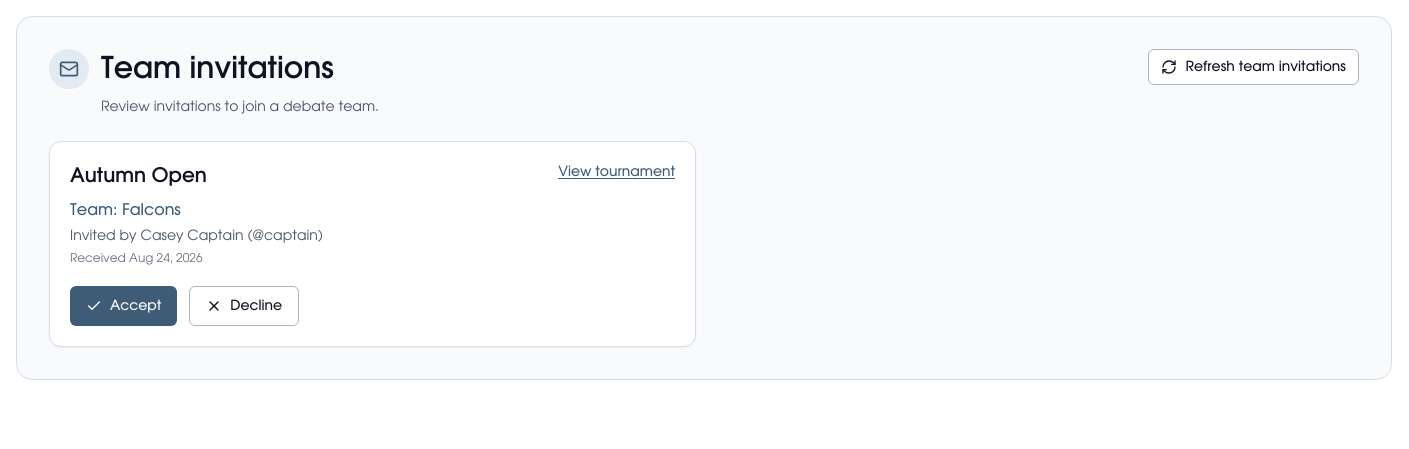
Test: ParticipantInvitationInbox › keeps decline available when accepting fails with an ordinary 400 response
Step 1. Click the button with aria-label "Accept invitation to Falcons" → (124, 306), box [70,286,177,326]
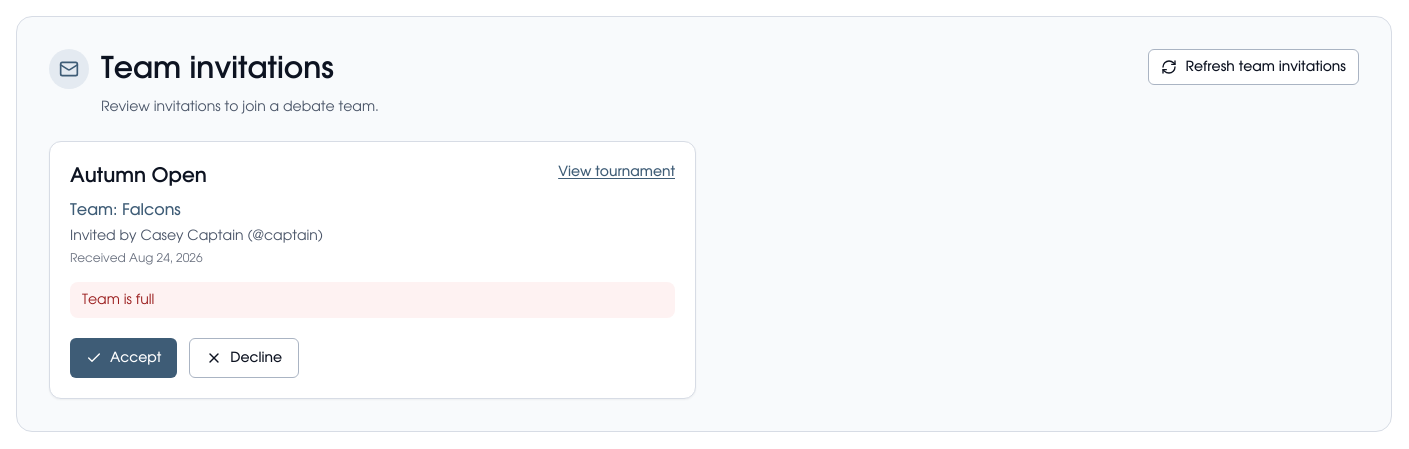
Check: the button with aria-label "Decline invitation to Falcons" is enabled, box [189,338,299,378]
Check: the text "Team is full" is shown, box [70,282,675,318]
